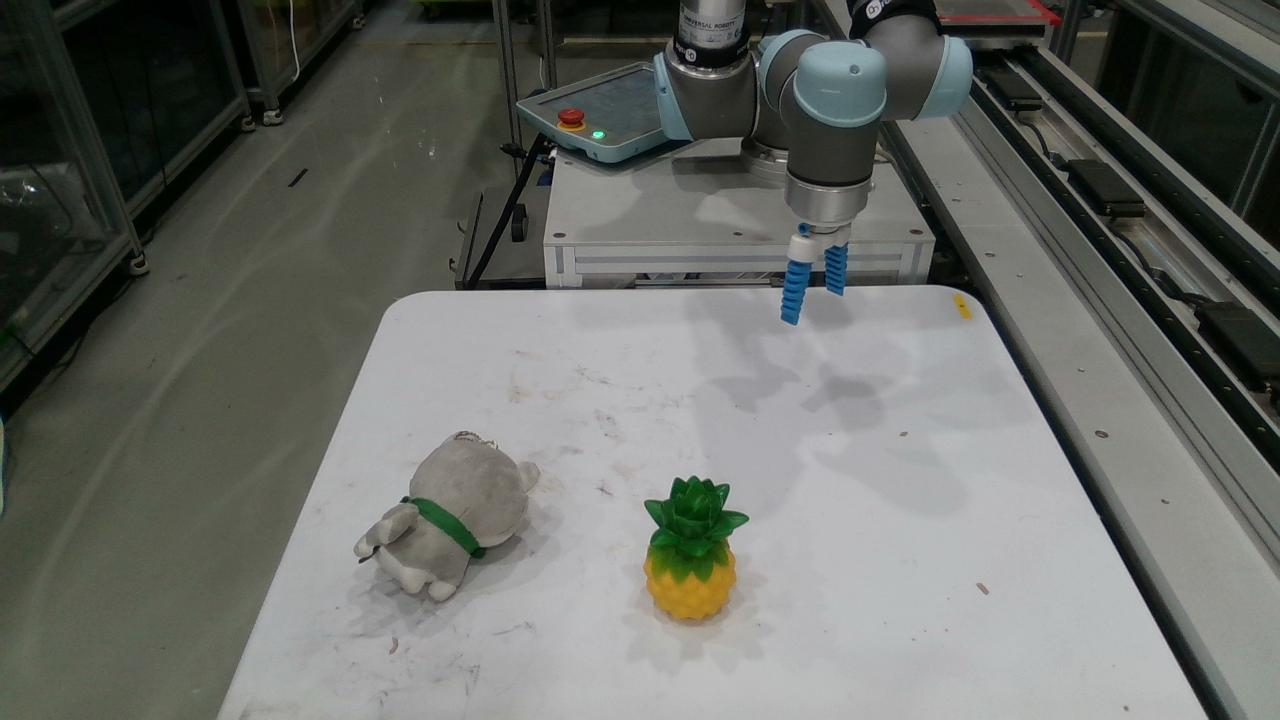UR5: (654, 0, 972, 265)
gripper_left: (781, 261, 812, 324)
gripper_right: (825, 240, 848, 295)
target: (354, 431, 541, 602), (641, 475, 750, 620)
